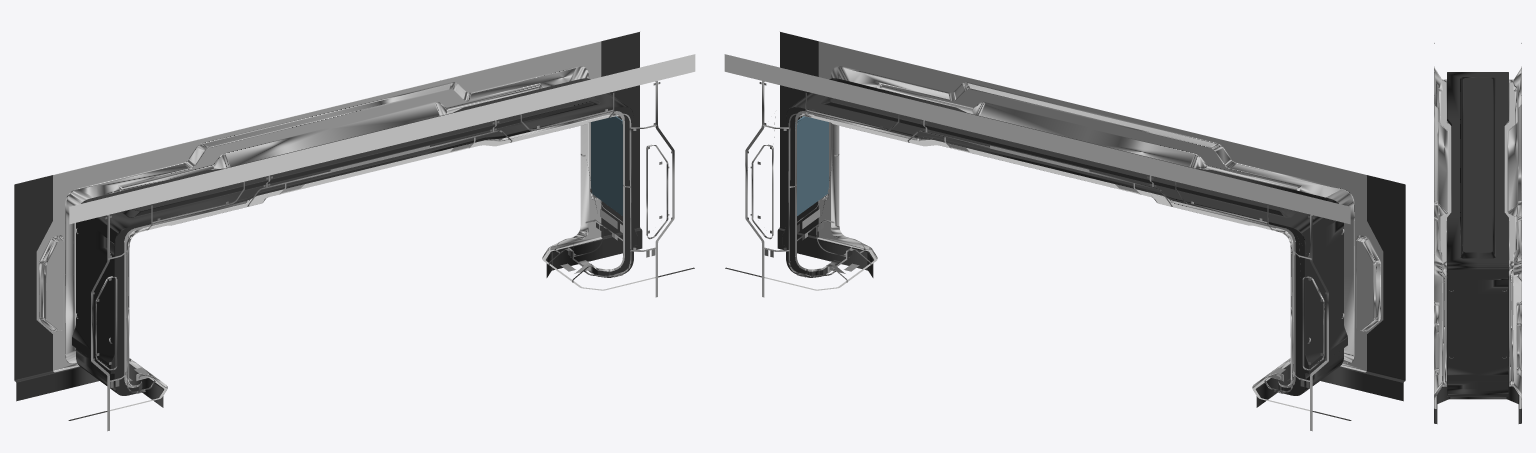
File: roomsm_c_bulkhead_12x04x04_a.glb
3 renders of one model, left to right at view 1: azimuth 30°, elevation 25°; view 2: azimuth 150°, elevation 25°; view 3: azimuth 270°, elevation 25°, orthographic. The views are drawn at different scales.
Size of the model in its own units: 13 by 4.63 by 2.
